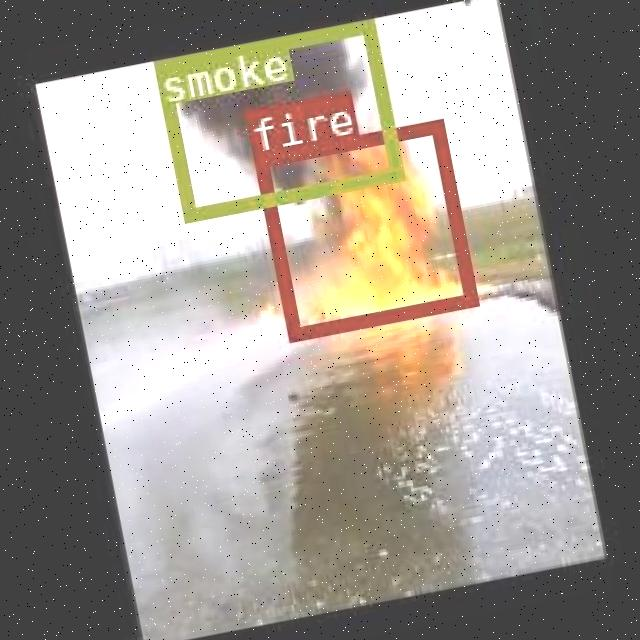fire: (252, 118, 475, 340)
smoke: (152, 18, 402, 220)
